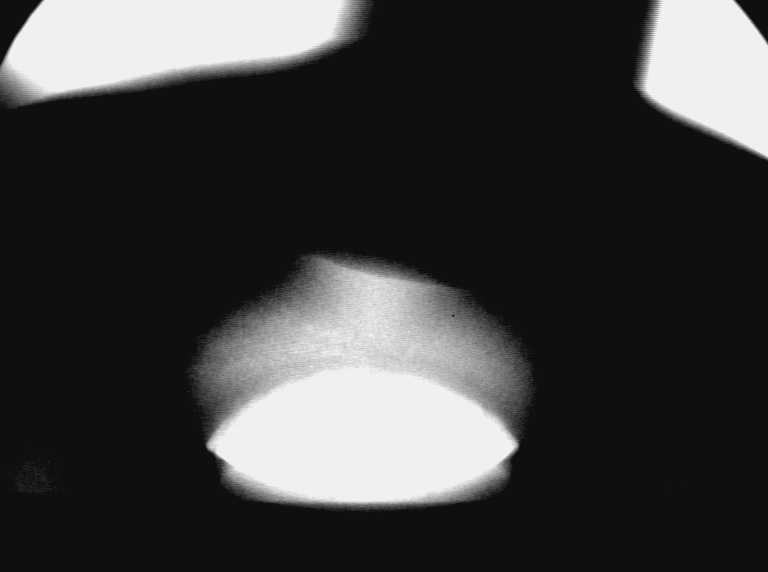defect: (303, 244, 467, 308)
